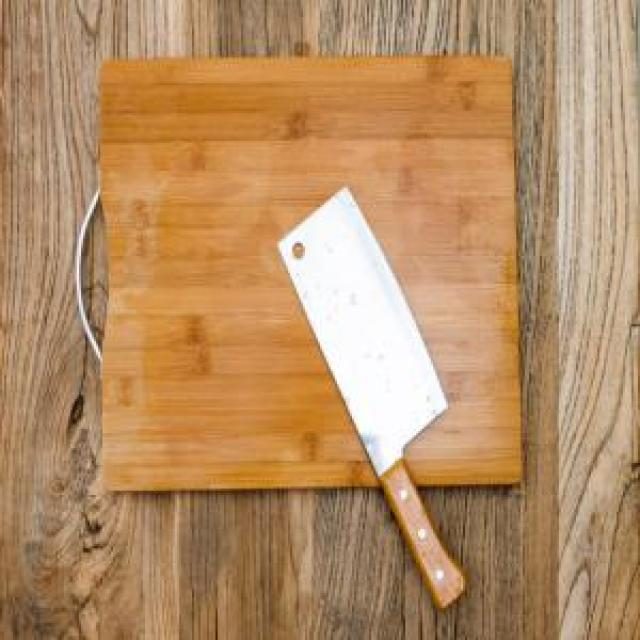knife: (277, 184, 474, 616)
